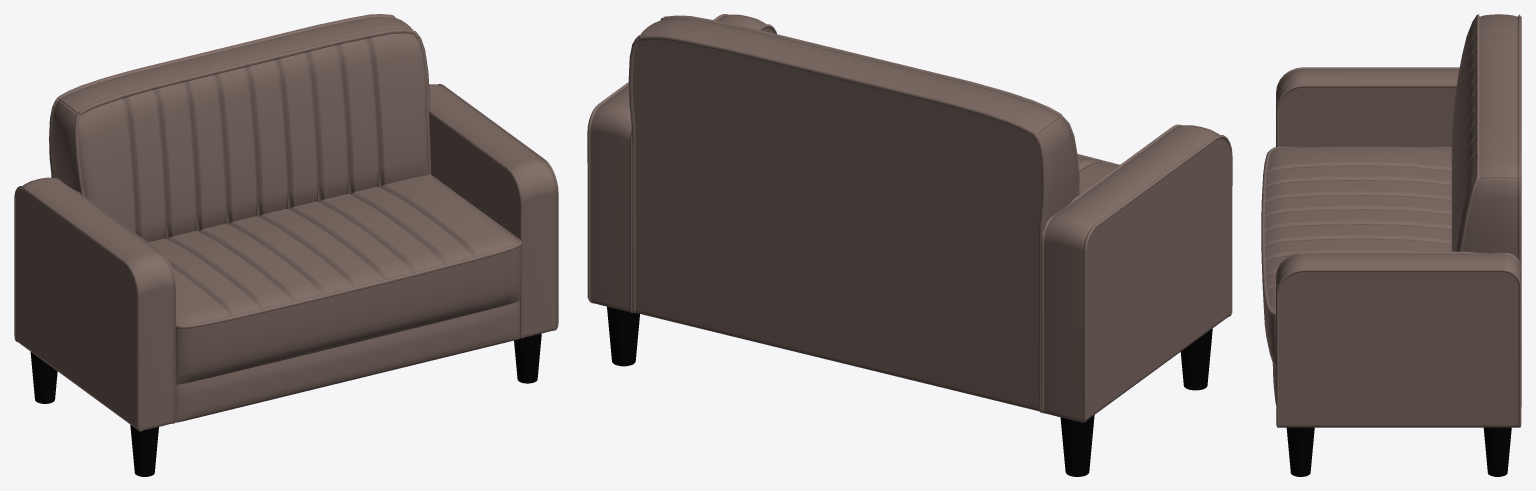
The model's file is Sofa7.gltf.
3 views of the same model, side by side, from view 1: azimuth 30°, elevation 25°; view 2: azimuth 150°, elevation 25°; view 3: azimuth 270°, elevation 25° (orthographic). The views are drawn at different scales.
Parts seen in each view (by area): view 1: Leather, Foot; view 2: Leather, Foot; view 3: Leather, Foot.
Boxes of the visible parts, box(x1,y1,x2,y2) form: Leather: box(14, 14, 558, 431); Foot: box(30, 333, 541, 476); Leather: box(587, 14, 1232, 422); Foot: box(607, 306, 1212, 476); Leather: box(1261, 14, 1521, 427); Foot: box(1286, 427, 1511, 476).
Bounding box in the file's own units: 1.16 × 0.7813 × 0.6265.
